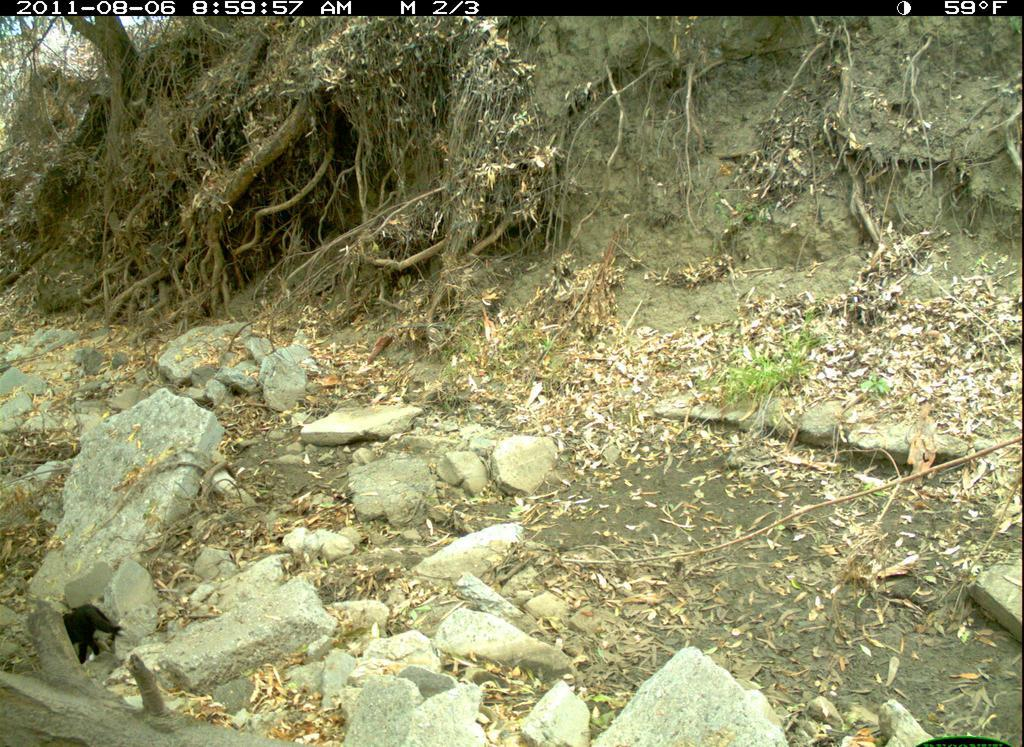cat: (59, 600, 132, 673)
